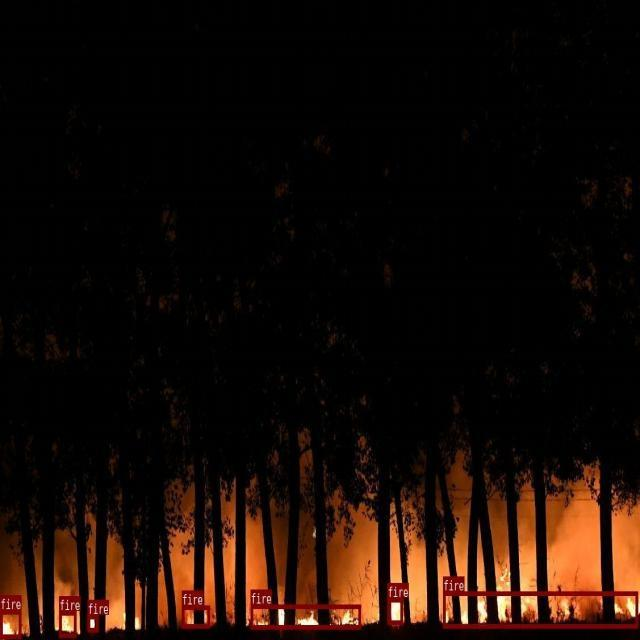fire: (443, 591, 638, 627), (250, 604, 360, 628), (182, 605, 209, 627), (0, 609, 20, 637), (59, 611, 76, 637), (387, 597, 402, 624), (87, 614, 98, 631)
